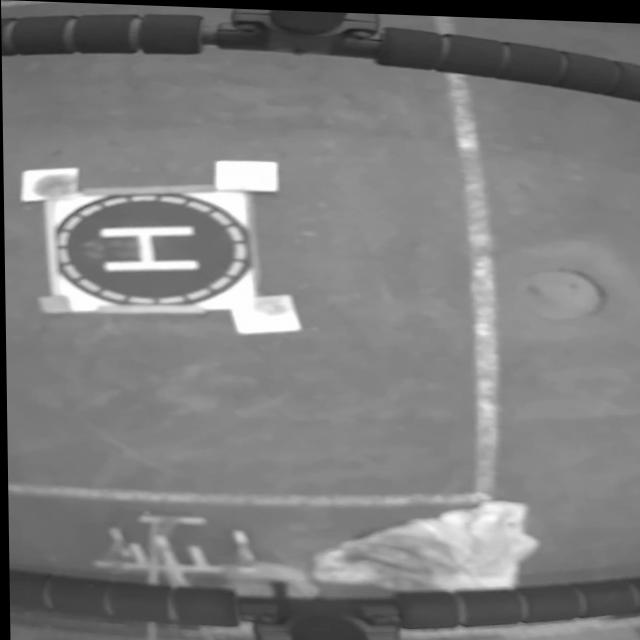Helipad: (97, 225, 196, 272)
